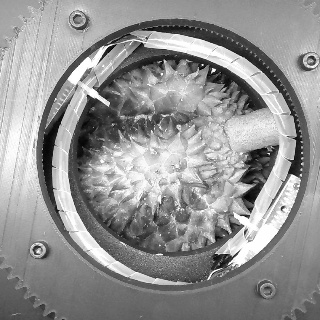base: (218, 109, 253, 162)
